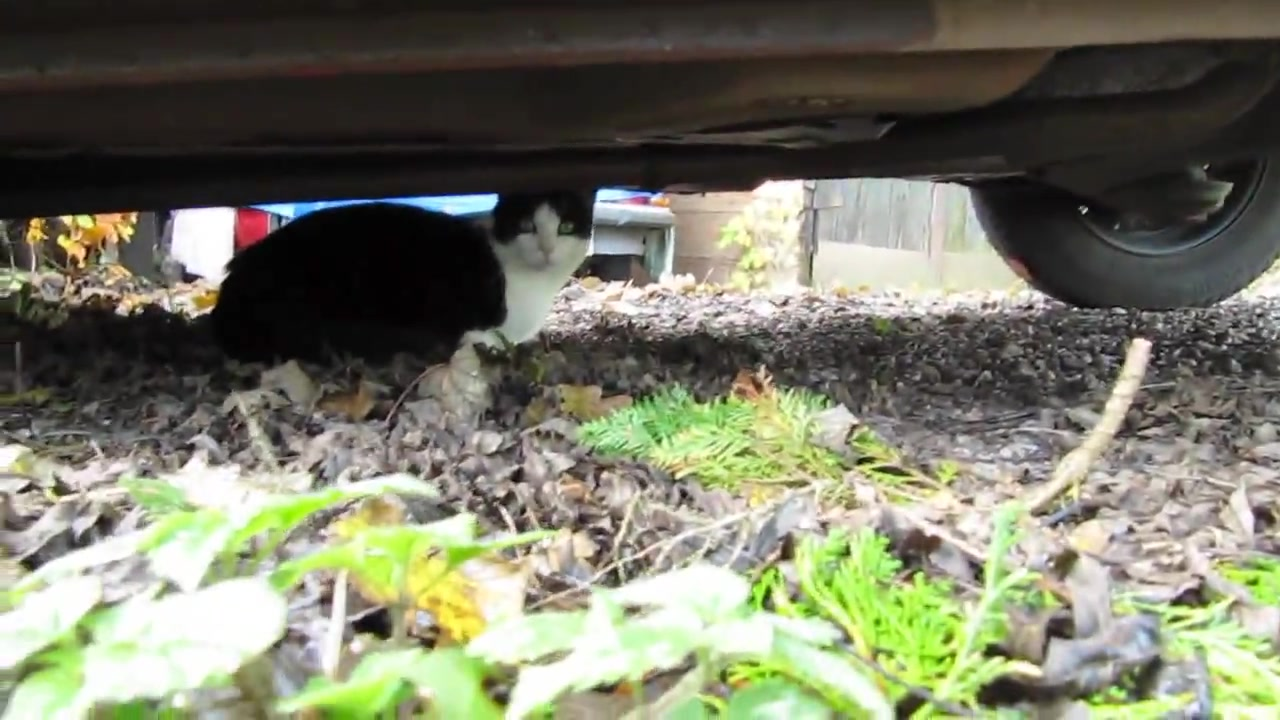cat: (202, 187, 607, 383)
